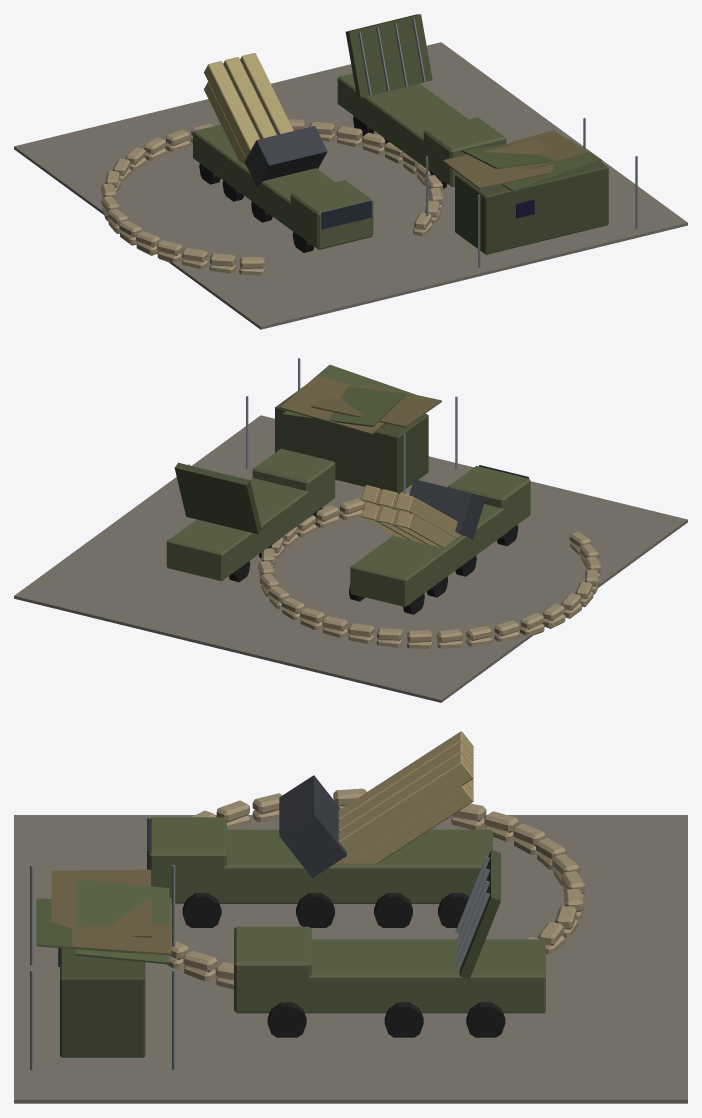
File: sam_m.glb
3 views of the same model, one above another, from view 1: azimuth 30°, elevation 25°; view 2: azimuth 150°, elevation 25°; view 3: azimuth 270°, elevation 25° (orthographic). The views are drawn at different scales.
Parts seen in each view (by area): view 1: sam_m; view 2: sam_m; view 3: sam_m.
Part boxes in pixels (box(x1,y1,x2,y2)): sam_m: box(14, 14, 687, 329); sam_m: box(14, 358, 687, 702); sam_m: box(14, 731, 687, 1103).
Bounding box in the file's own units: 19.6 × 5.03 × 19.
